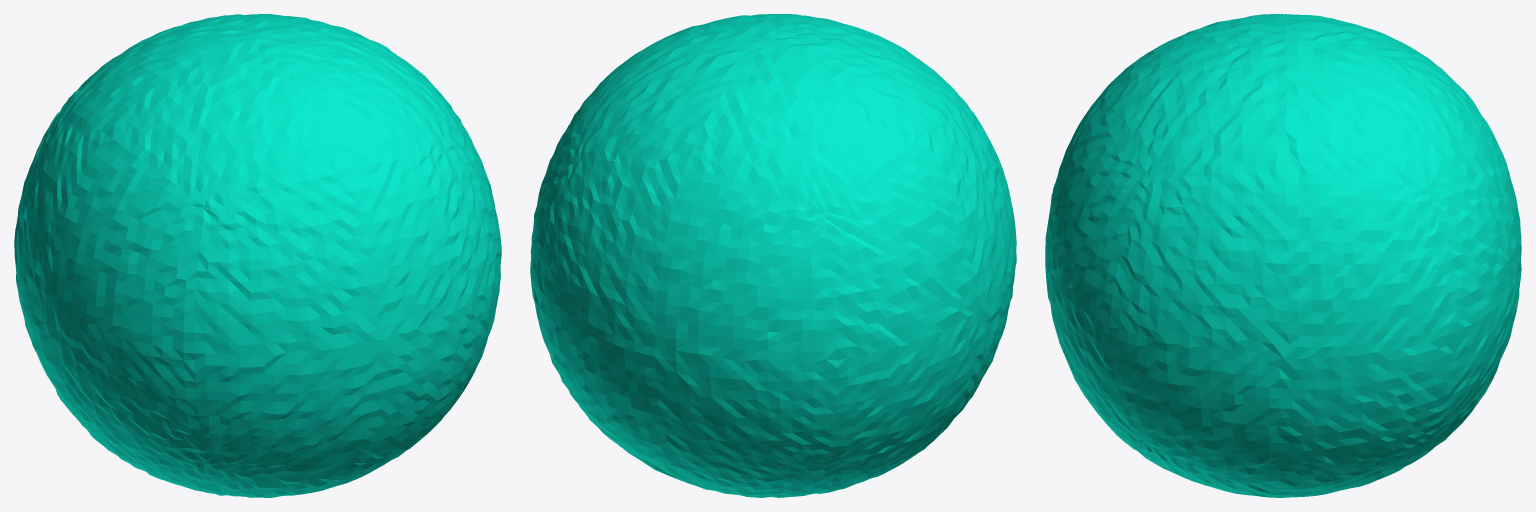
The model's file is Sea15.fbx.
The picture shows the model from 3 angles, left to right: view 1: azimuth 30°, elevation 25°; view 2: azimuth 150°, elevation 25°; view 3: azimuth 270°, elevation 25°; orthographic projection.
Visible parts, largest first — view 1: pCube1; view 2: pCube1; view 3: pCube1.
Part boxes in pixels (x1,y1,x2,y2): pCube1: (14,14,501,497); pCube1: (530,14,1016,497); pCube1: (1045,14,1521,497).
Size of the model in its own units: 40.14 by 40.12 by 40.09.
